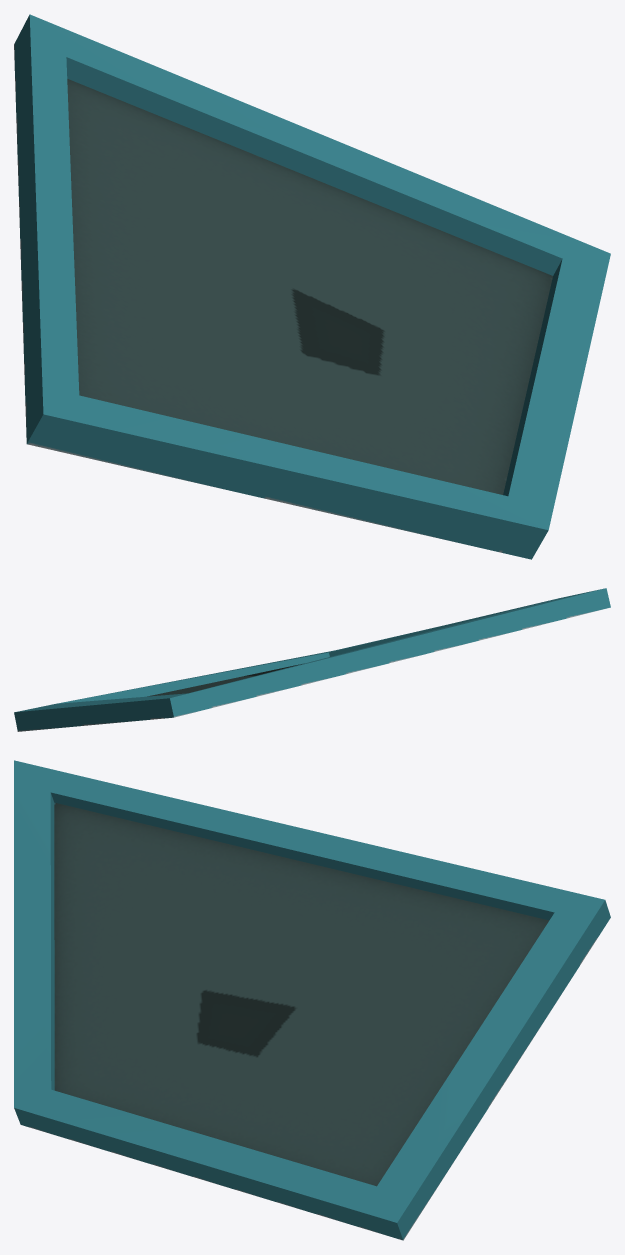
The model's file is Console_Door_Right.fbx.
3 renders of one model, top to bottom at view 1: azimuth 30°, elevation 25°; view 2: azimuth 150°, elevation 25°; view 3: azimuth 270°, elevation 25°, orthographic. The views are drawn at different scales.
Visible parts, largest first — view 1: Console_Door_Right; view 2: Console_Door_Right; view 3: Console_Door_Right.
Boxes of the visible parts, <box> form: Console_Door_Right: <box>14,14,610,559</box>; Console_Door_Right: <box>14,588,610,731</box>; Console_Door_Right: <box>14,760,610,1240</box>.
Size of the model in its own units: 908 by 276 by 774.
